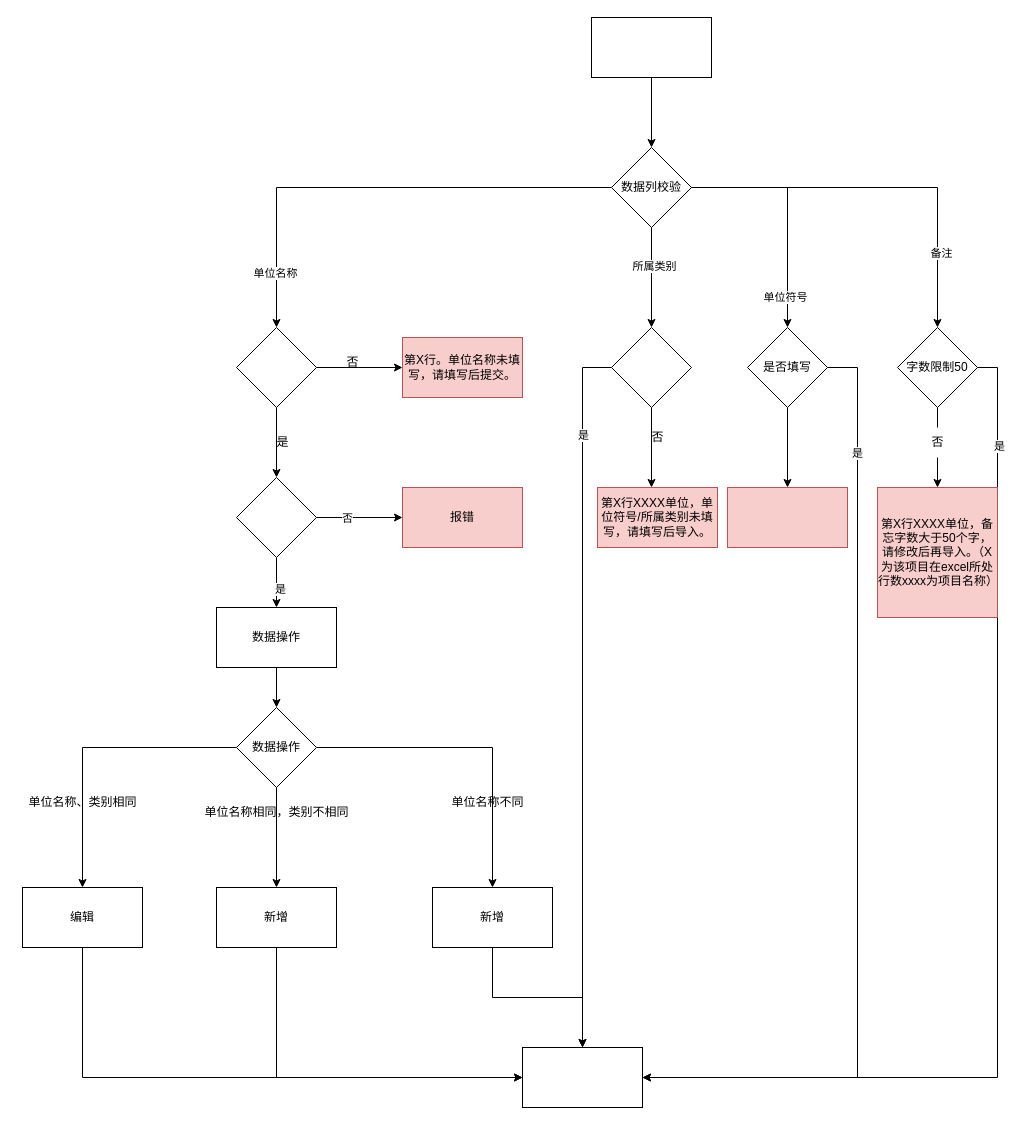
Image size: 1023x1125. Some labels were removed from this diagram. The shapes that lost their labels are listed below. From the top down, each one's centre as x and y in pixels, then its label:
At point 651,47: "导入单位数据 Excel 文档".
At point 276,367: "单位名称是否填写".
At point 651,367: "类别是否存在".
At point 276,517: "单位是否唯一".
At point 787,517: "第X行XXXX单位，所属类别不存在，请增加所属类别后导入。".
At point 582,1077: "入库".
